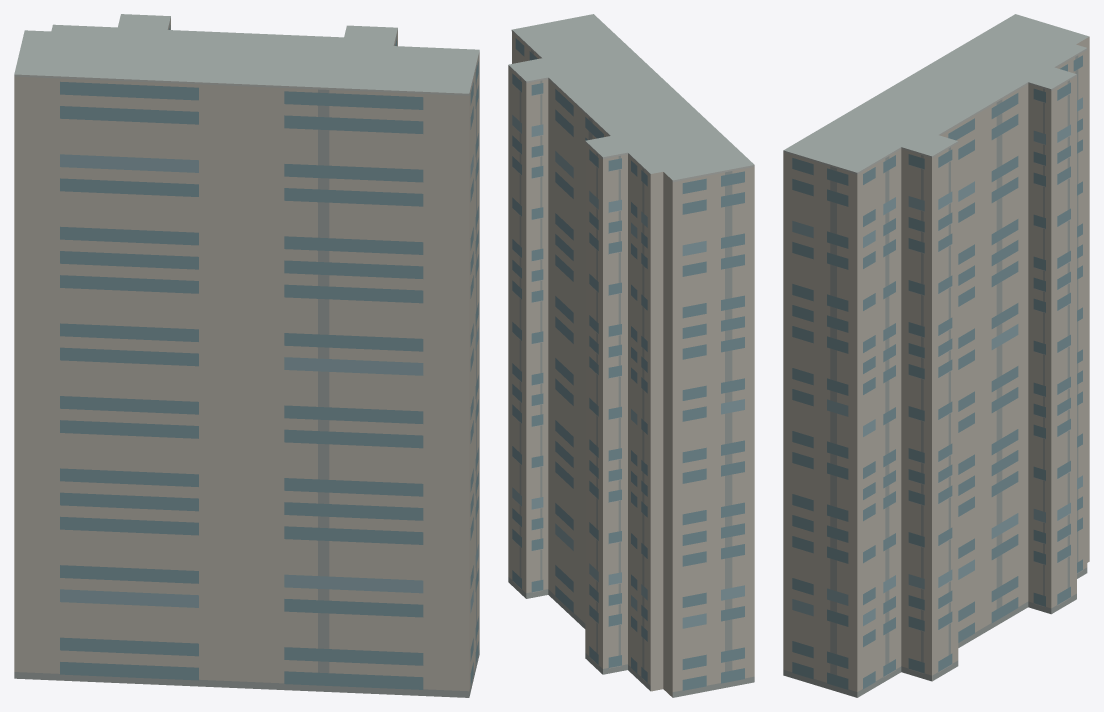
File: residential-0dedf14a-a9af-44ea-ae22-251c833dc6d7.glb
The picture shows the model from 3 angles, left to right: view 1: azimuth 30°, elevation 25°; view 2: azimuth 150°, elevation 25°; view 3: azimuth 270°, elevation 25°; orthographic projection. The views are drawn at different scales.
Visible parts, largest first — view 1: residential-0dedf14a-a9af-44ea-ae22-251c833dc6d7.tmp; view 2: residential-0dedf14a-a9af-44ea-ae22-251c833dc6d7.tmp; view 3: residential-0dedf14a-a9af-44ea-ae22-251c833dc6d7.tmp.
Part boxes in pixels (bbox=[...]): residential-0dedf14a-a9af-44ea-ae22-251c833dc6d7.tmp: bbox=[14, 14, 479, 697]; residential-0dedf14a-a9af-44ea-ae22-251c833dc6d7.tmp: bbox=[508, 14, 754, 697]; residential-0dedf14a-a9af-44ea-ae22-251c833dc6d7.tmp: bbox=[783, 14, 1089, 697].
Bounding box in the file's own units: 45.42 × 70 × 37.
